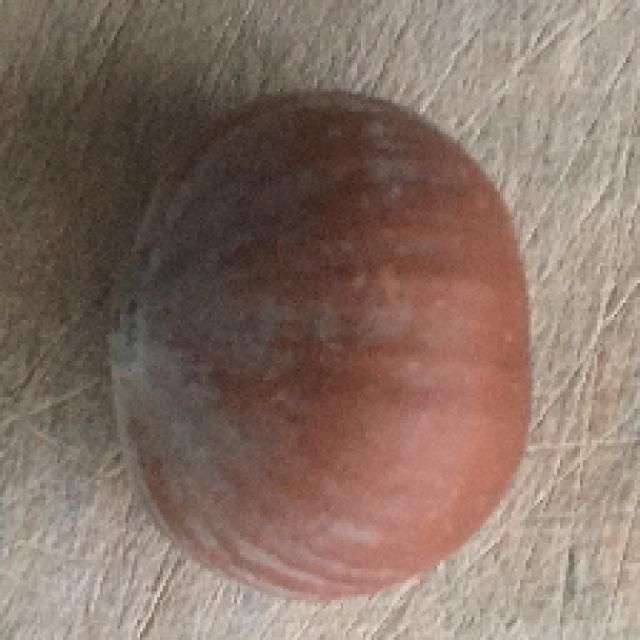qualityHazelnut: (103, 84, 543, 604)
